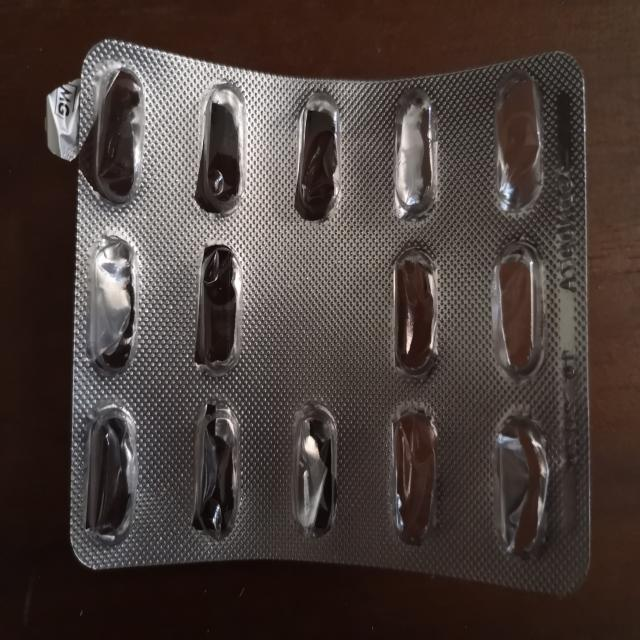Empty: (486, 402, 558, 566), (482, 67, 552, 222), (76, 399, 142, 557), (80, 224, 144, 382), (382, 398, 448, 548), (381, 236, 448, 382), (283, 397, 348, 545), (484, 243, 549, 390), (190, 73, 253, 222), (89, 62, 151, 208), (186, 394, 246, 544), (381, 85, 444, 227), (186, 236, 246, 378), (288, 89, 346, 228)
